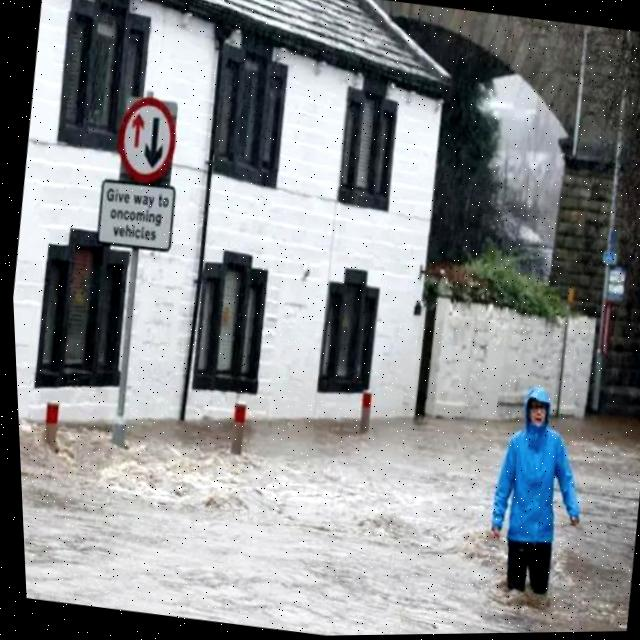civilian: (453, 355, 629, 632)
